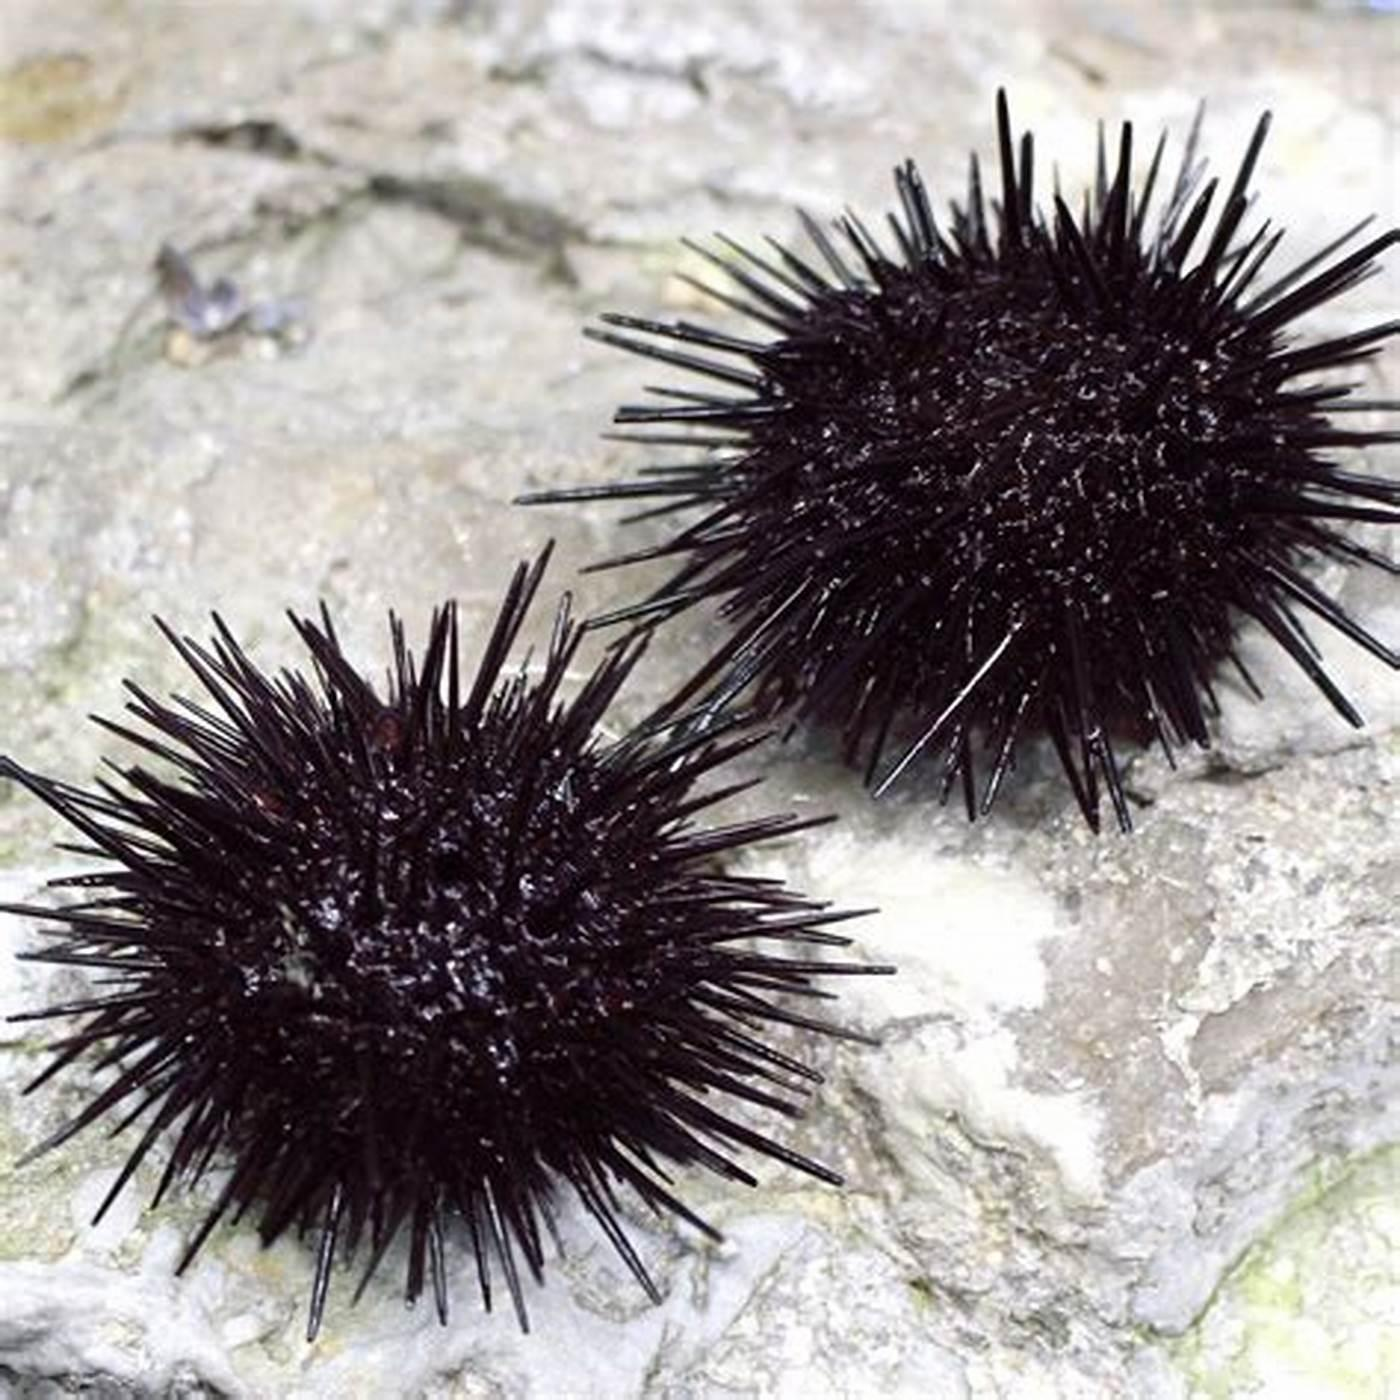urchin: (21, 568, 806, 1295), (614, 117, 1363, 810)
